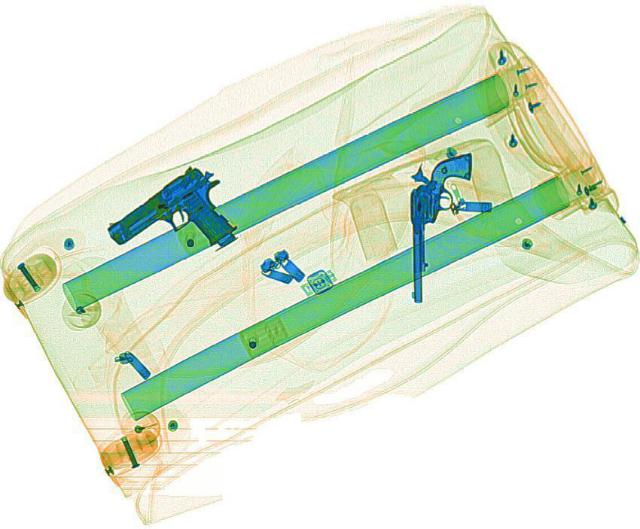Gun: (97, 159, 259, 278), (407, 151, 471, 302)
